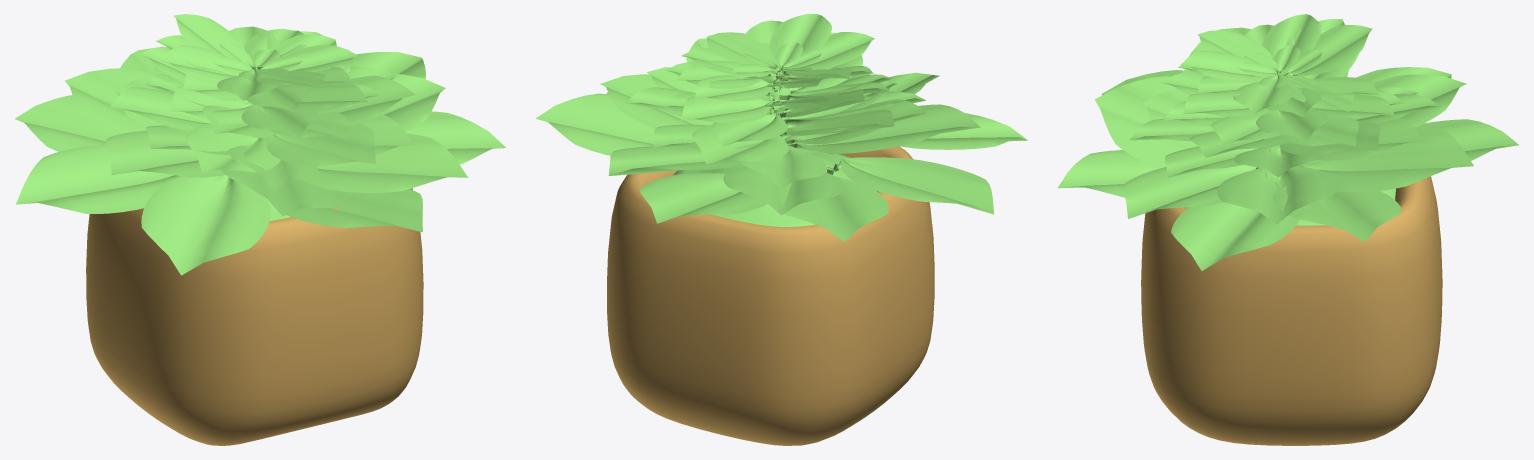
Rendered from plant_and_pot.fbx.
3 renders of one model, left to right at view 1: azimuth 30°, elevation 25°; view 2: azimuth 150°, elevation 25°; view 3: azimuth 270°, elevation 25°, orthographic. The views are drawn at different scales.
Parts seen in each view (by area): view 1: pPlane5; view 2: pPlane5; view 3: pPlane5.
Boxes of the visible parts, x1,y1,x2,y2 form: pPlane5: (15, 14, 505, 445); pPlane5: (536, 14, 1027, 445); pPlane5: (1058, 14, 1518, 445).
Bounding box in the file's own units: 1.44 × 1.16 × 1.34.
